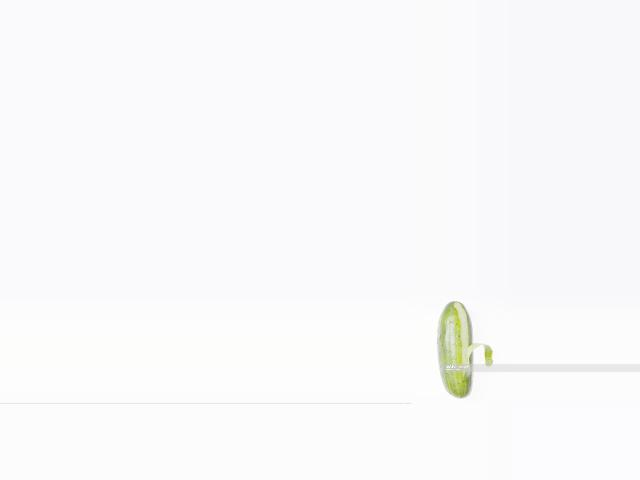cucumber: (437, 301, 474, 399)
